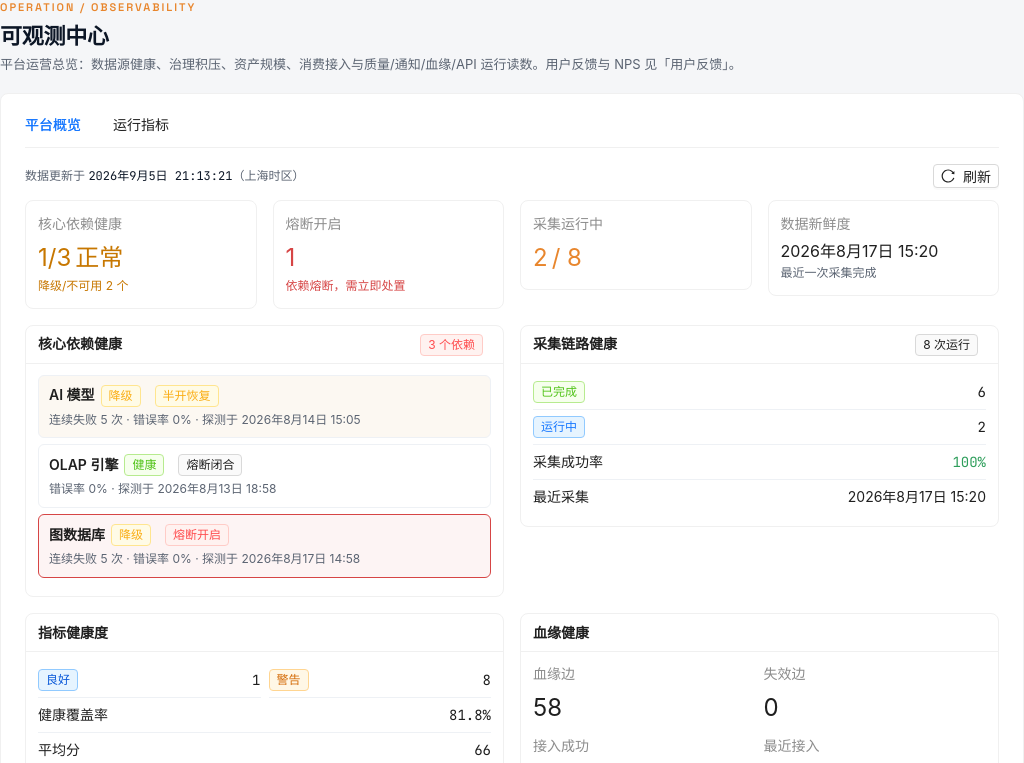
Test: Observability 可观测中心 › 质量事件级别分布：P0/P1/P2 显示中文标签（对齐后端 QualitySeverity）而非原始级别
Expected: the tab "平台概览" is shown, [25, 114, 81, 136]
Click the tab "运行指标" at {"x": 141, "y": 125}, box [113, 114, 169, 136]
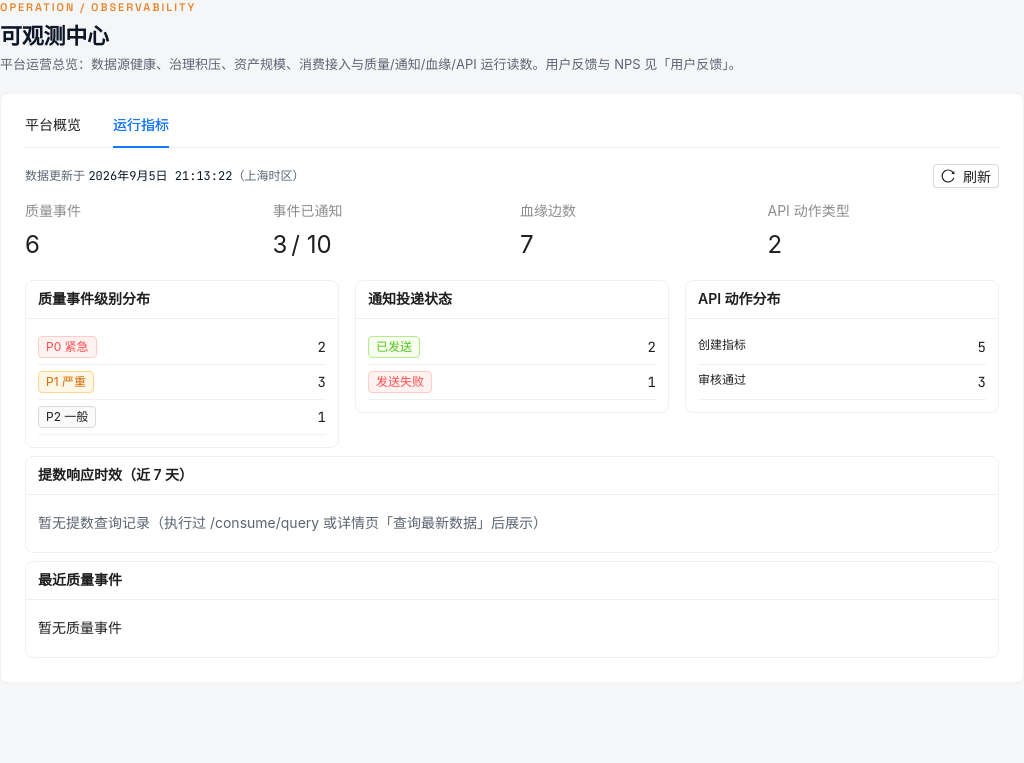
Expected: the text "质量事件级别分布" is shown, [38, 290, 150, 307]
Expected: the text "P0 紧急" is shown, [38, 336, 97, 358]
Expected: the text "P1 严重" is shown, [38, 371, 94, 393]
